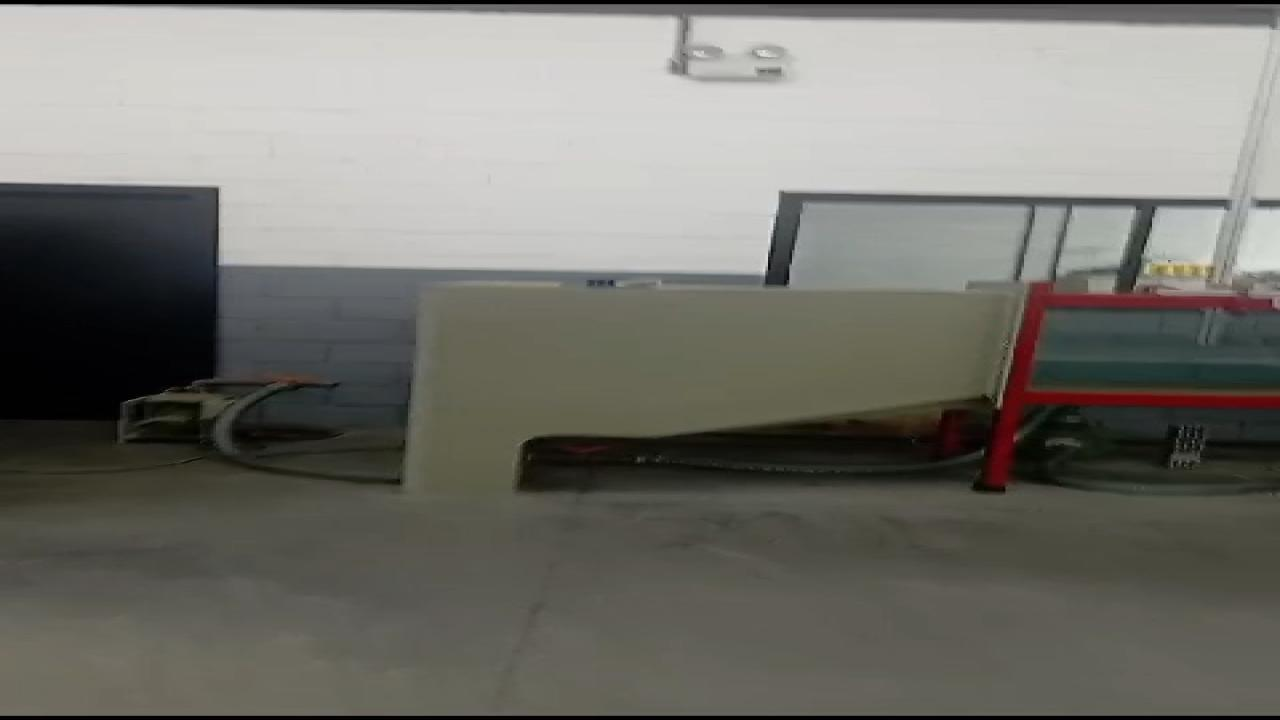Cube: (584, 279, 616, 287)
